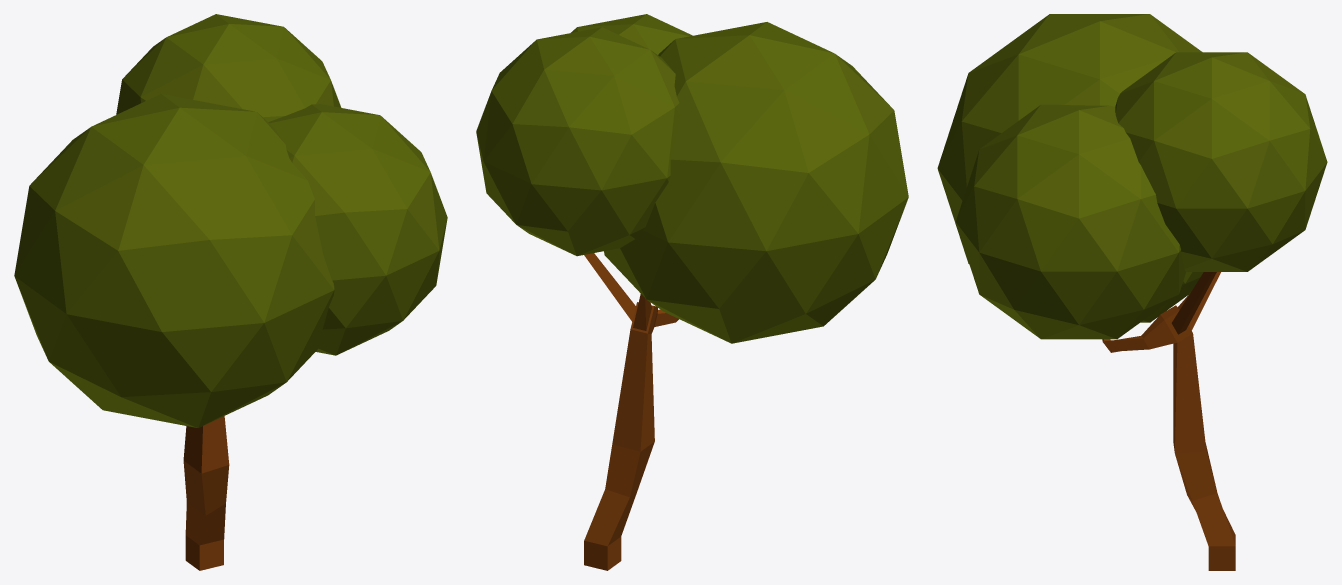
File: Small_tree1.glb
3 renders of one model, left to right at view 1: azimuth 30°, elevation 25°; view 2: azimuth 150°, elevation 25°; view 3: azimuth 270°, elevation 25°, orthographic. The views are drawn at different scales.
Parts seen in each view (by area): view 1: Cylinder; view 2: Cylinder; view 3: Cylinder.
Part boxes in pixels (x1,y1,x2,y2): Cylinder: (14, 14, 447, 570); Cylinder: (476, 14, 908, 570); Cylinder: (937, 14, 1327, 570).
Size of the model in its own units: 1.27 by 1.74 by 1.19.
1 material, 1 textured.
